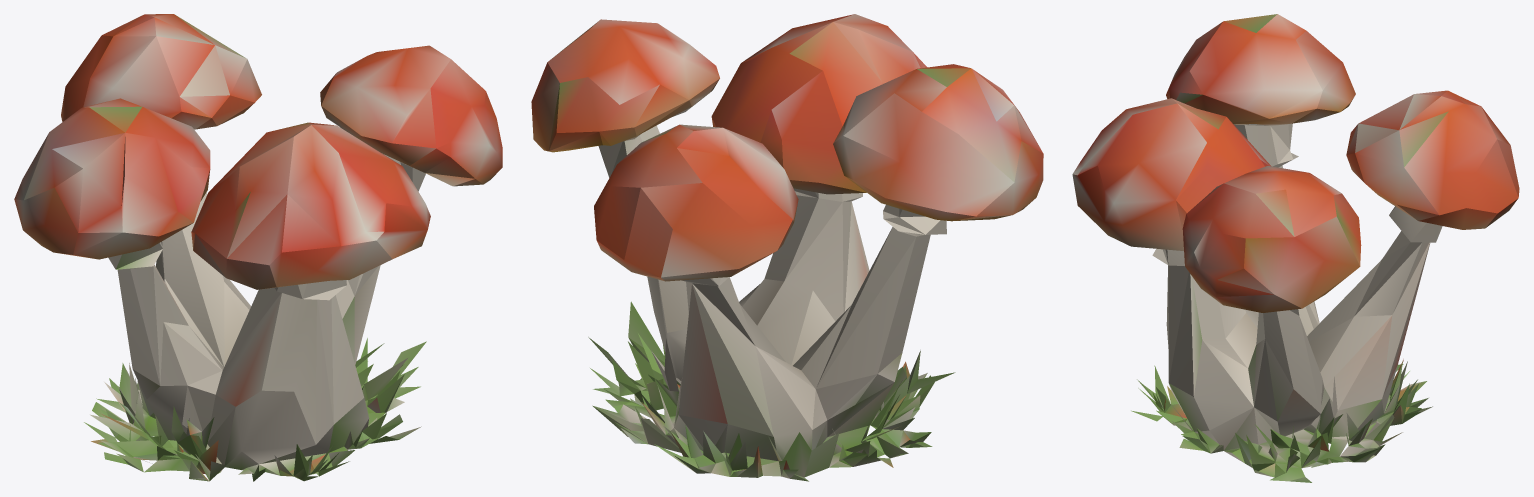
File: mushrooms.glb
3 views of the same model, side by side, from view 1: azimuth 30°, elevation 25°; view 2: azimuth 150°, elevation 25°; view 3: azimuth 270°, elevation 25° (orthographic). The views are drawn at different scales.
Parts seen in each view (by area): view 1: geometry_0; view 2: geometry_0; view 3: geometry_0.
Part boxes in pixels (bbox=[...]): geometry_0: bbox=[14, 14, 502, 481]; geometry_0: bbox=[531, 14, 1043, 481]; geometry_0: bbox=[1072, 14, 1519, 482].
Size of the model in its own units: 0.4007 by 0.3 by 0.3686.
